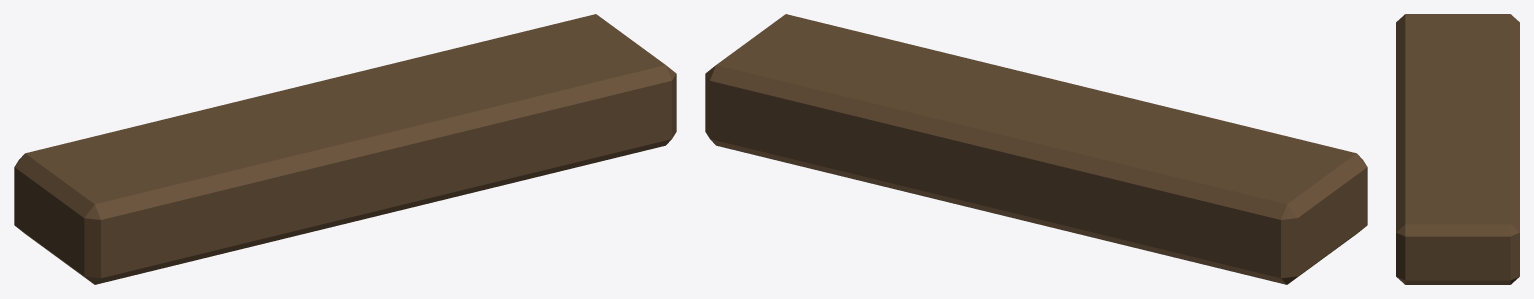
Rendered from SM_WL_RidgeCap1m.fbx.
The picture shows the model from 3 angles, left to right: view 1: azimuth 30°, elevation 25°; view 2: azimuth 150°, elevation 25°; view 3: azimuth 270°, elevation 25°; orthographic projection. The views are drawn at different scales.
Visible parts, largest first — view 1: SM_WL_RidgeCap1m; view 2: SM_WL_RidgeCap1m; view 3: SM_WL_RidgeCap1m.
Boxes of the visible parts, x1=… form: SM_WL_RidgeCap1m: x1=14, y1=14, x2=676, y2=284; SM_WL_RidgeCap1m: x1=705, y1=14, x2=1367, y2=284; SM_WL_RidgeCap1m: x1=1396, y1=14, x2=1519, y2=284.
Size of the model in its own units: 0.24 by 1 by 0.13.
